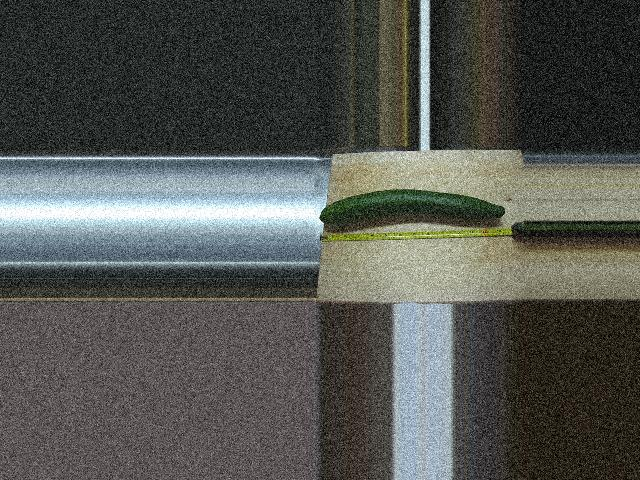cucumber: (319, 189, 505, 225)
